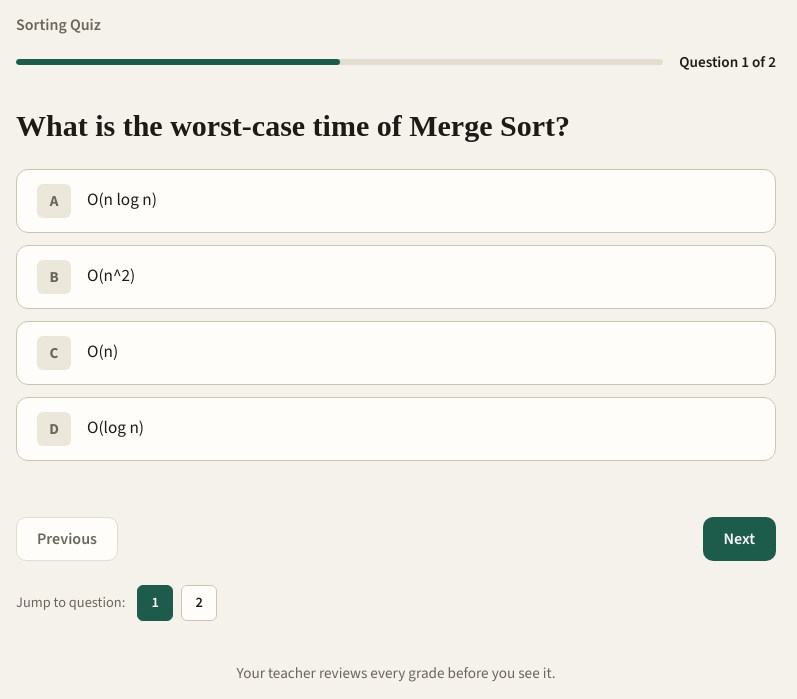
Test case: Take page (restyle) › keeps the review-and-submit step and shows the quiz footer
This screenshot has width=797, height=699.
Check: the text "Your teacher reviews every grade before you see it." is shown, box x1=236 y1=663 x2=555 y2=683
Click the button "Next" at [739, 539], box x1=702 y1=517 x2=776 y2=561
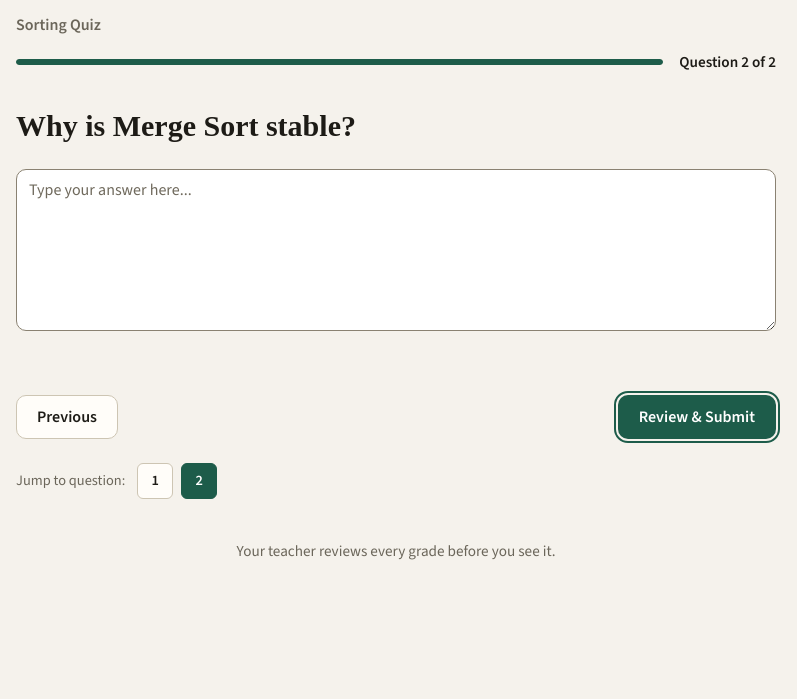
Check: the text "Question 2 of 2" is shown once, box x1=679 y1=50 x2=776 y2=74
Click the button "Review & Submit" at [697, 416], box x1=618 y1=394 x2=776 y2=438
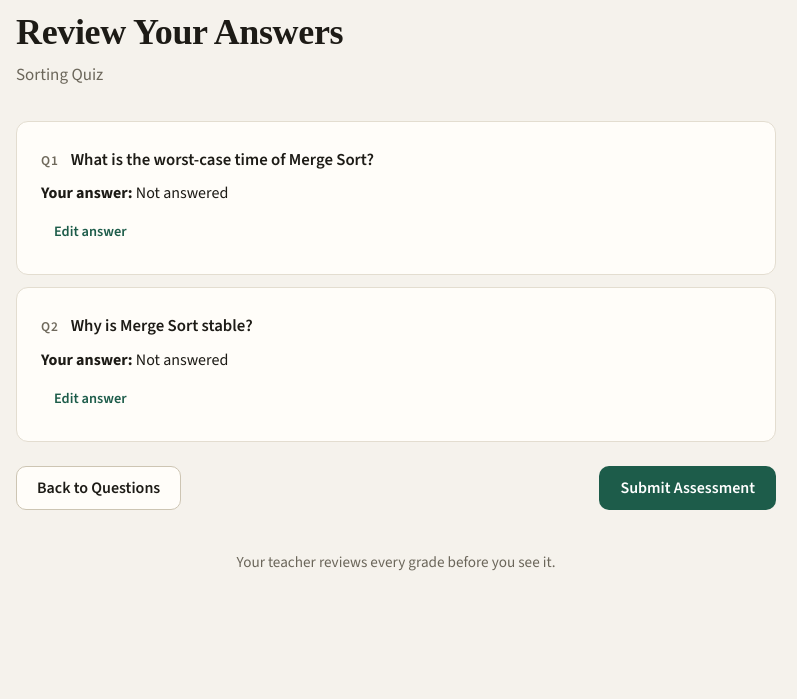
Check: the heading "Review Your Answers" is shown, box x1=16 y1=12 x2=343 y2=52
Check: the button "Submit Assessment" is shown, box x1=600 y1=466 x2=776 y2=510
